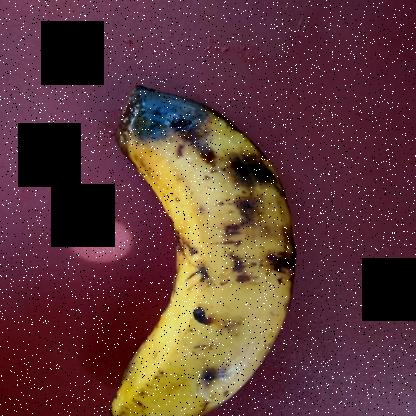overripe: (73, 166, 310, 415)
rotten: (72, 62, 316, 258)
